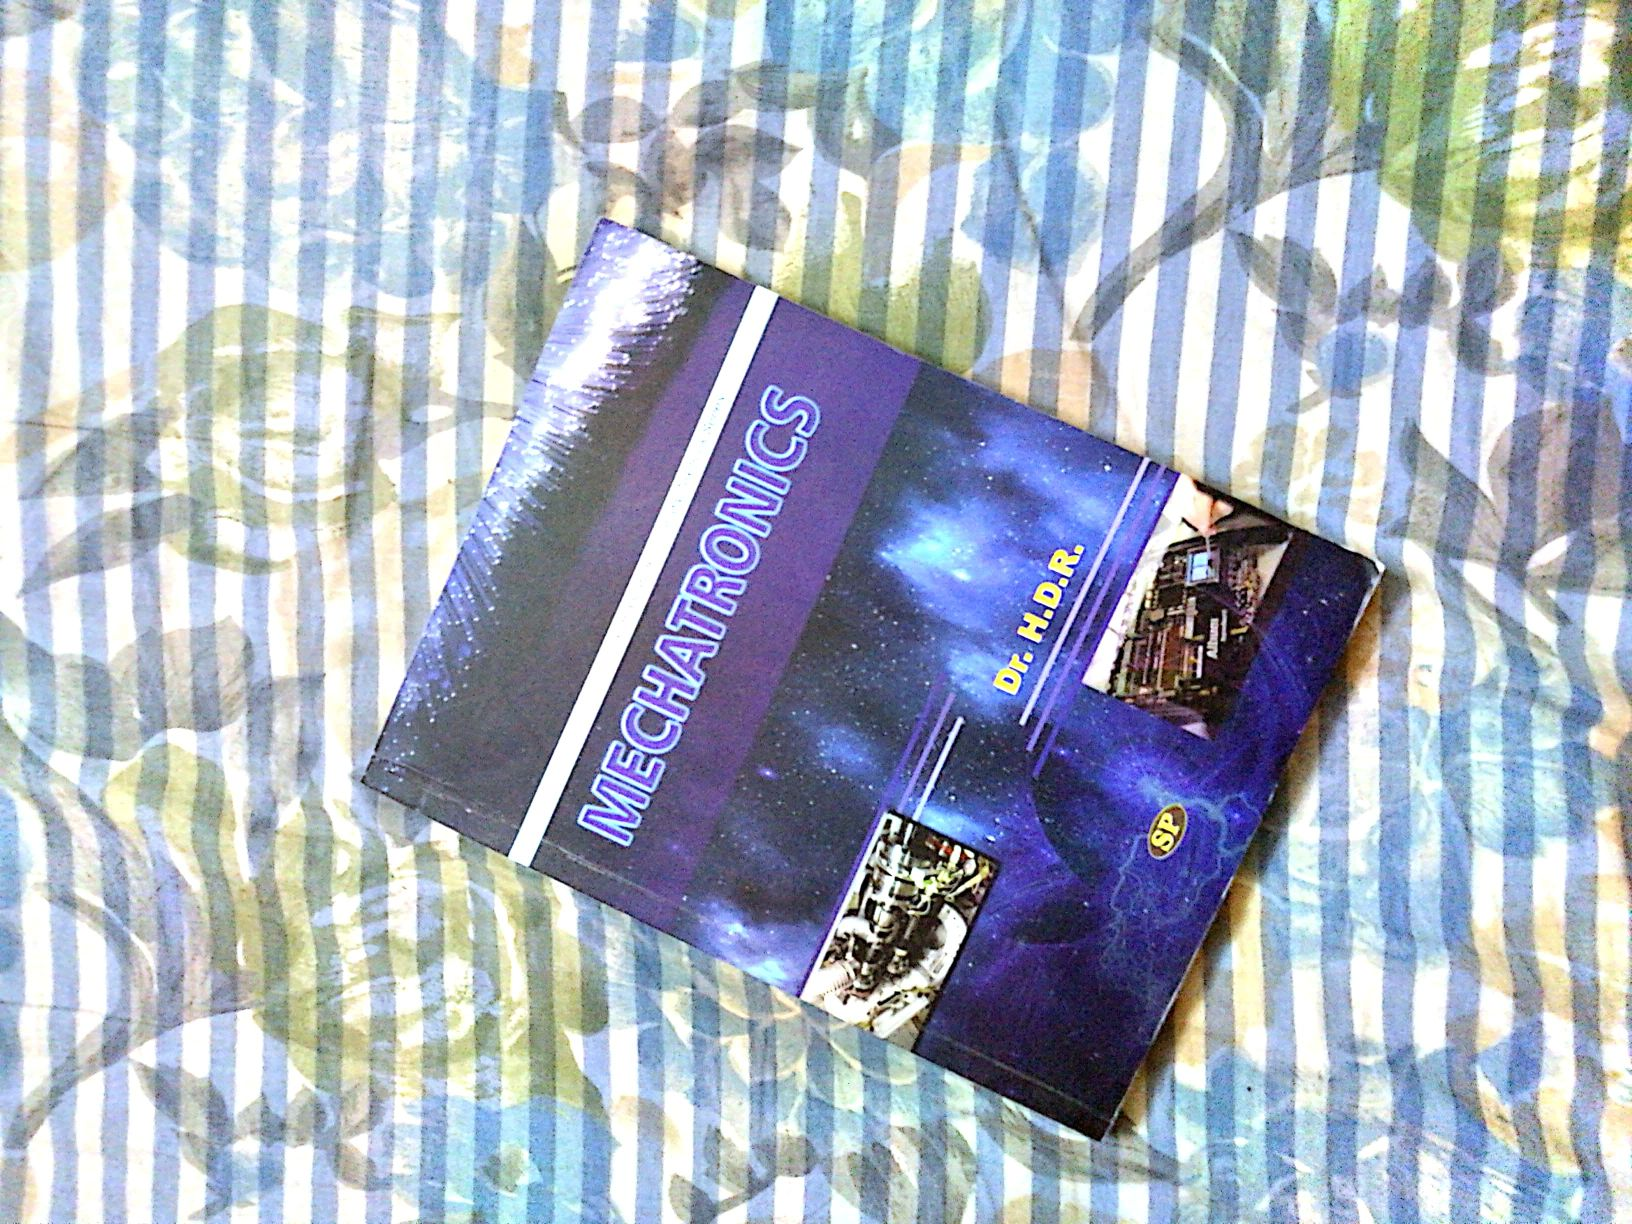mechatronics: (323, 257, 1402, 1094)
